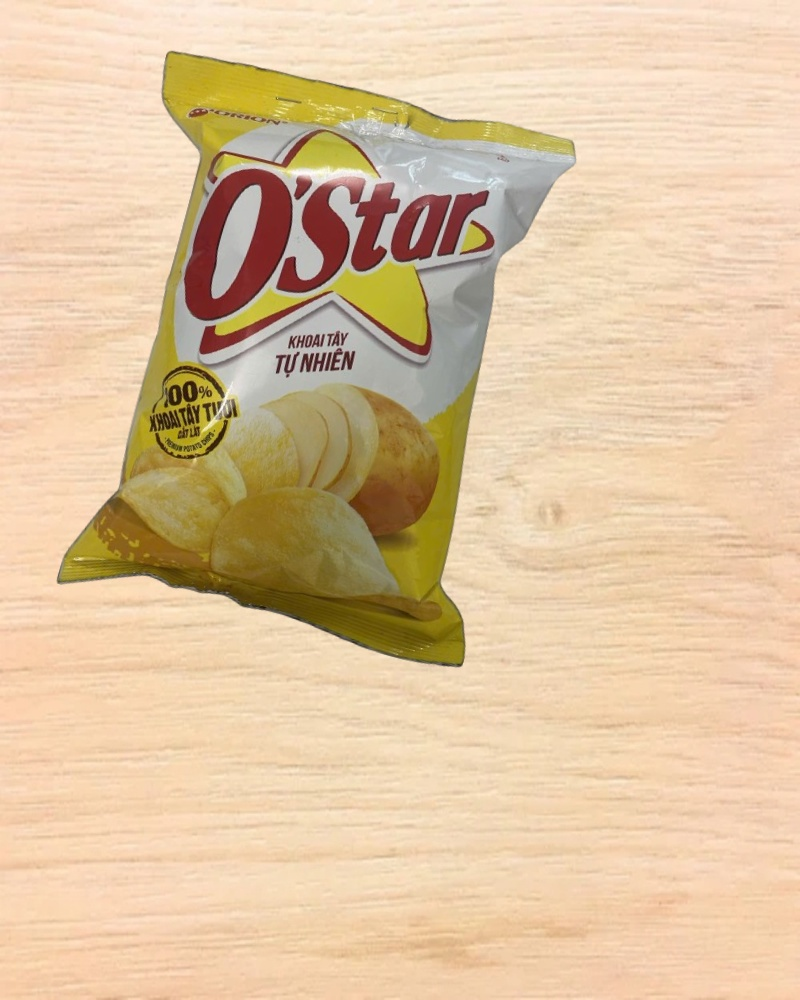O'star: (29, 34, 601, 690)
